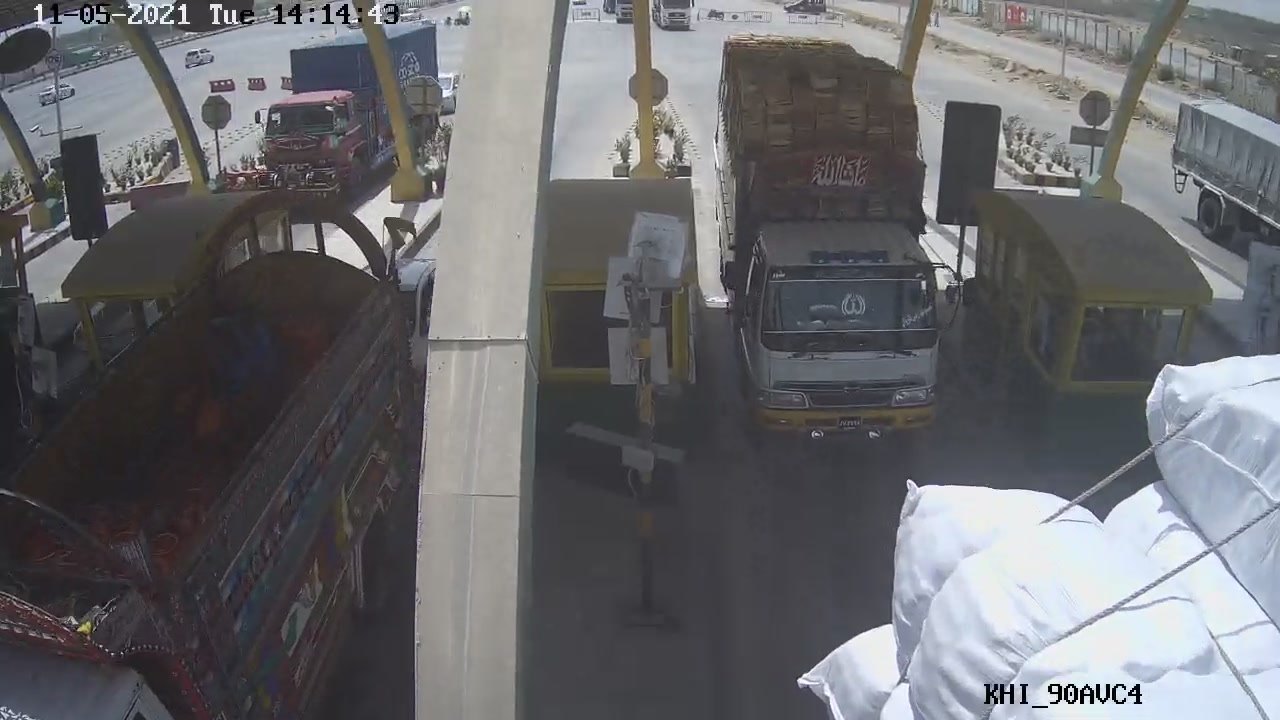F5: (706, 28, 960, 461)
